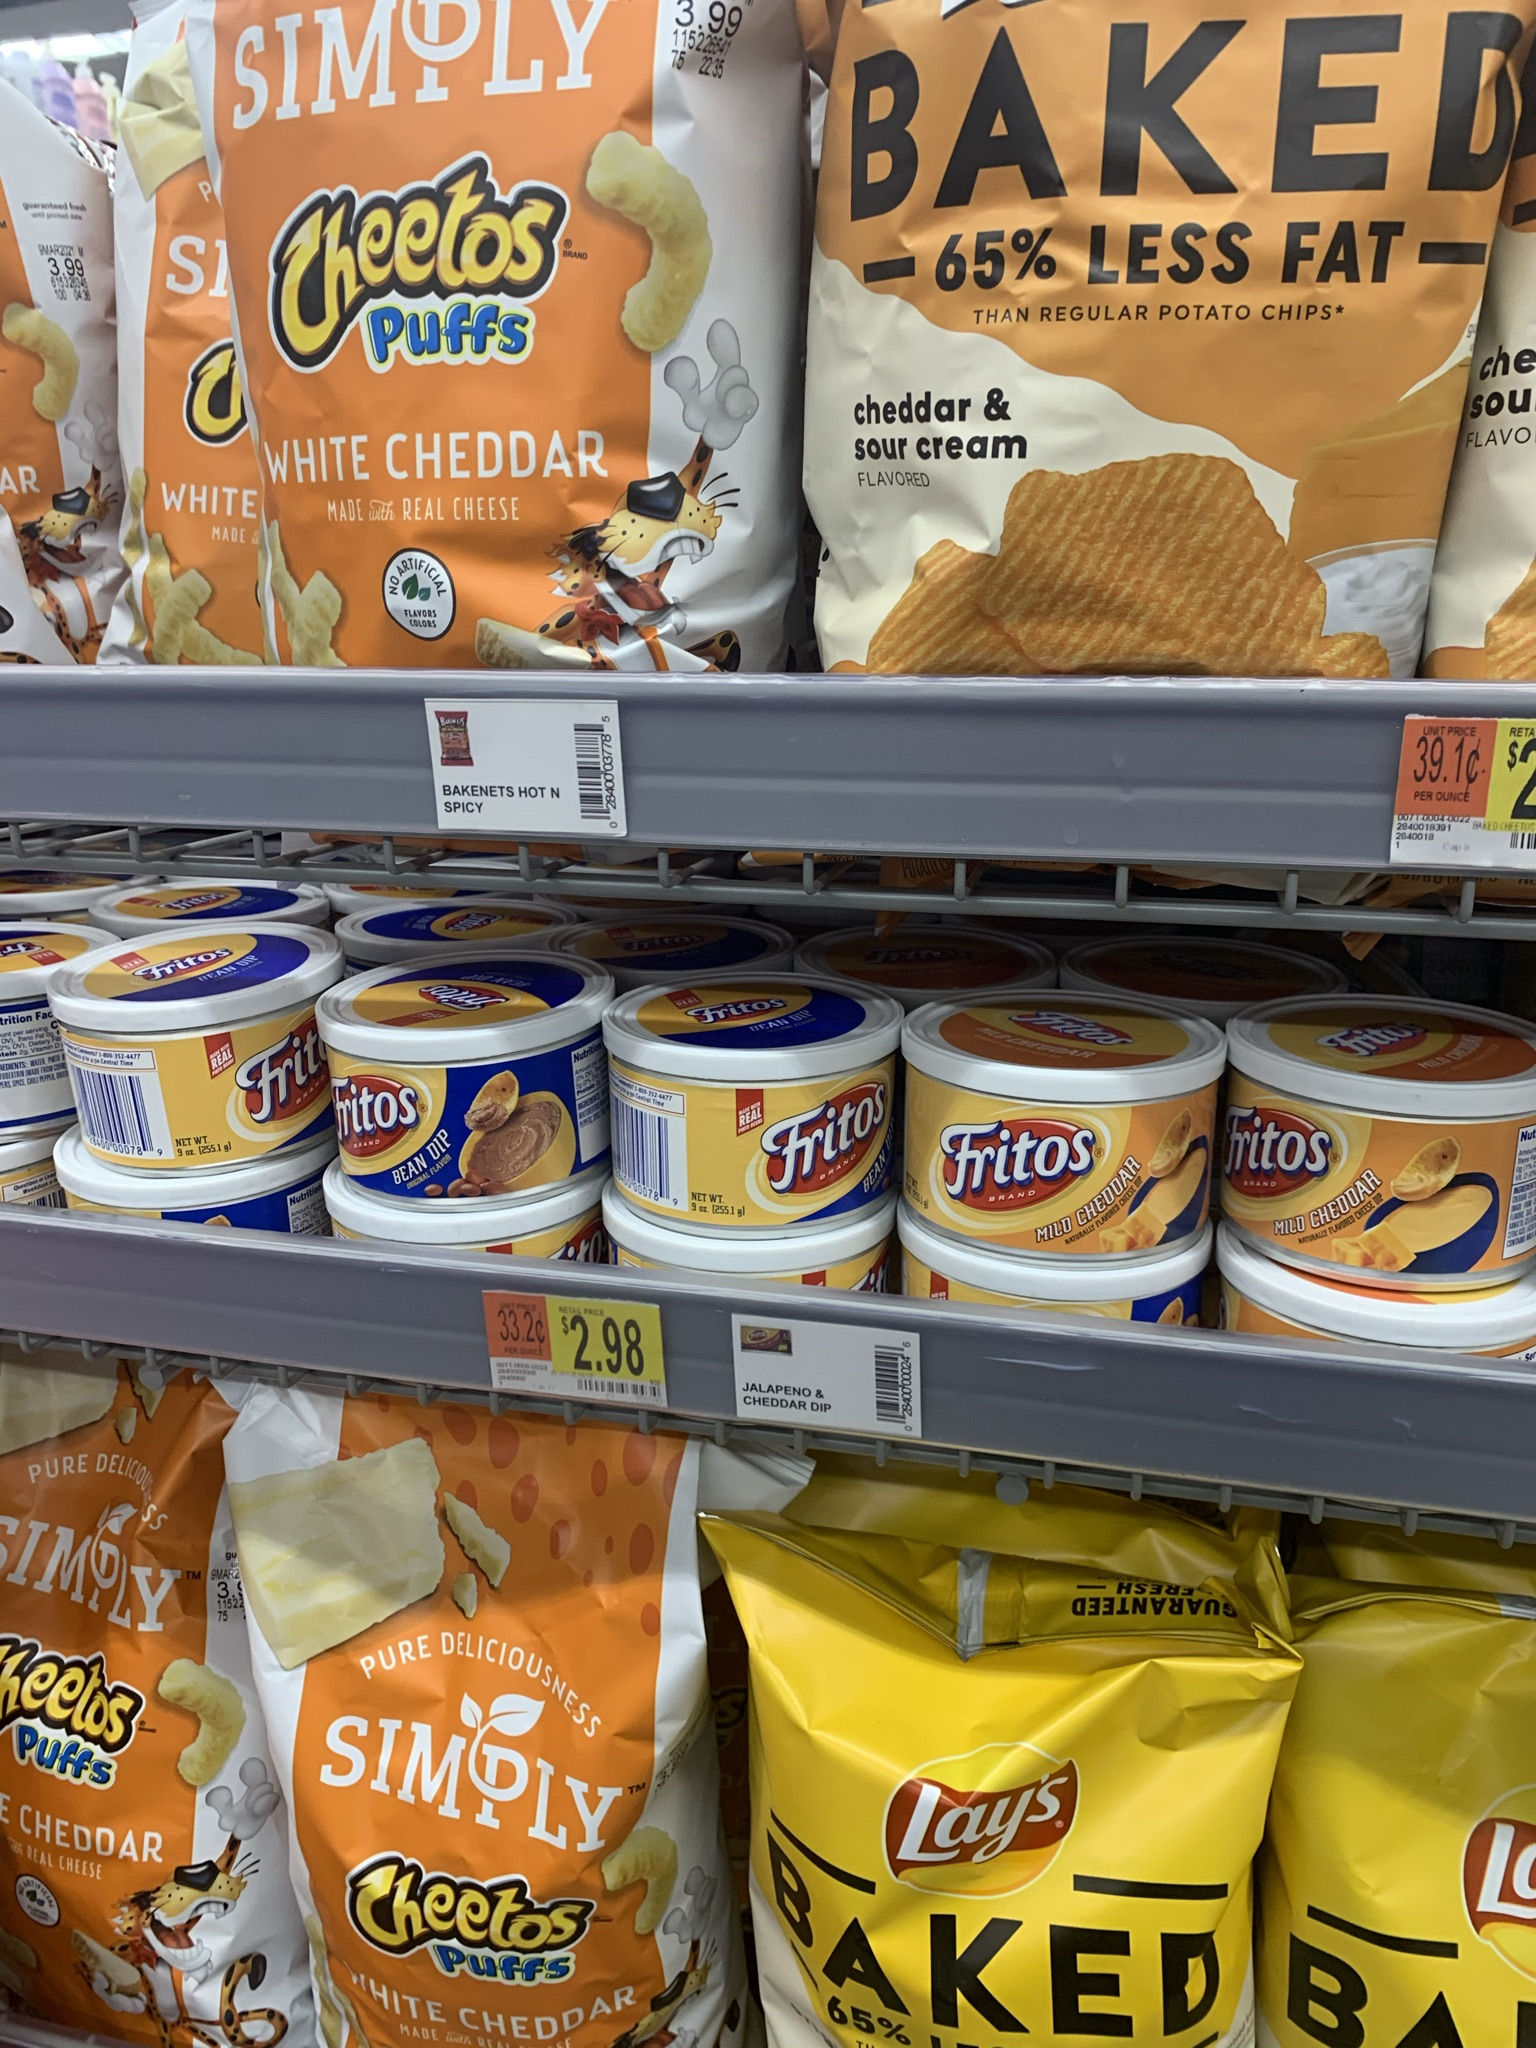cheetos chips: (289, 1406, 694, 2048), (3, 1384, 324, 2048)
fritos chips: (939, 1009, 1183, 1229), (1288, 1061, 1525, 1266), (74, 971, 328, 1156), (634, 997, 883, 1185), (349, 1001, 589, 1166)
lays: (749, 1542, 1220, 2048), (1275, 1596, 1502, 2045)
